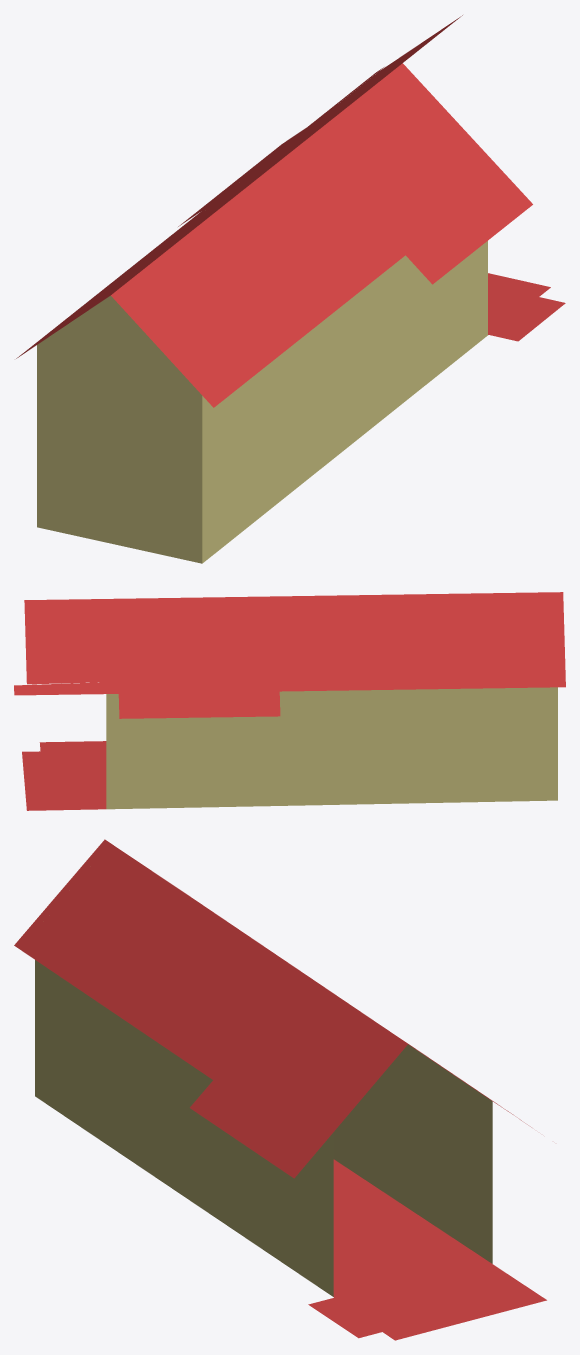
3 renders of one model, top to bottom at view 1: azimuth 30°, elevation 25°; view 2: azimuth 150°, elevation 25°; view 3: azimuth 270°, elevation 25°, orthographic. The views are drawn at different scales.
Size of the model in its own units: 41.58 by 33.35 by 15.53.
